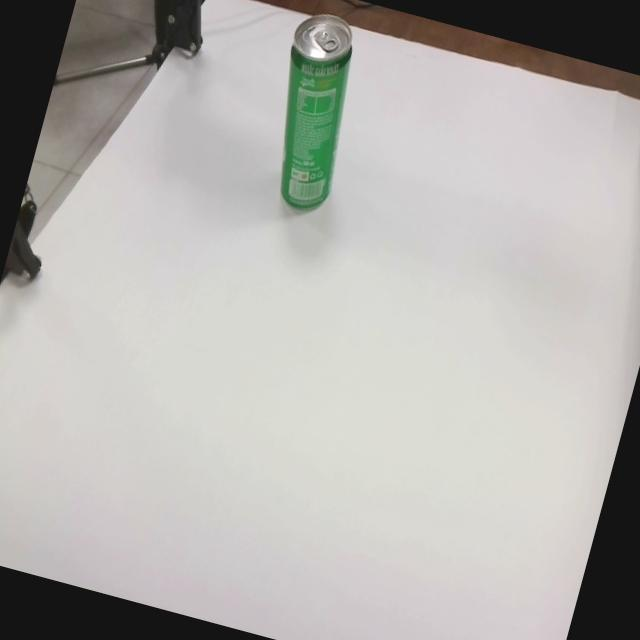debris: (248, 5, 374, 217)
